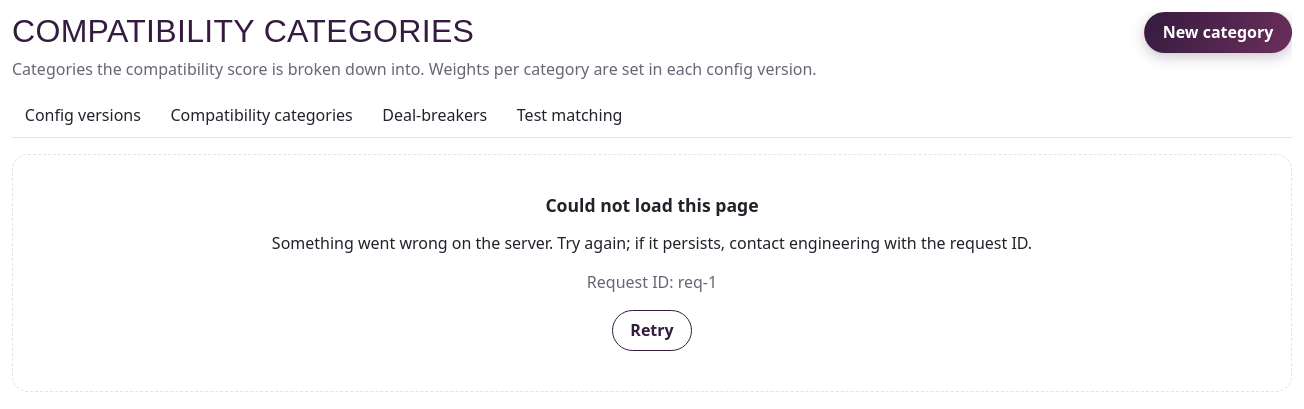
CategoriesPage › shows empty and error states
Check: the text "Something went wrong on the server. Try again; if it persists, contact engineering with the request ID." is shown, box x1=272 y1=232 x2=1032 y2=254
Click the button "Retry": (652, 331) x1=612 y1=310 x2=692 y2=351
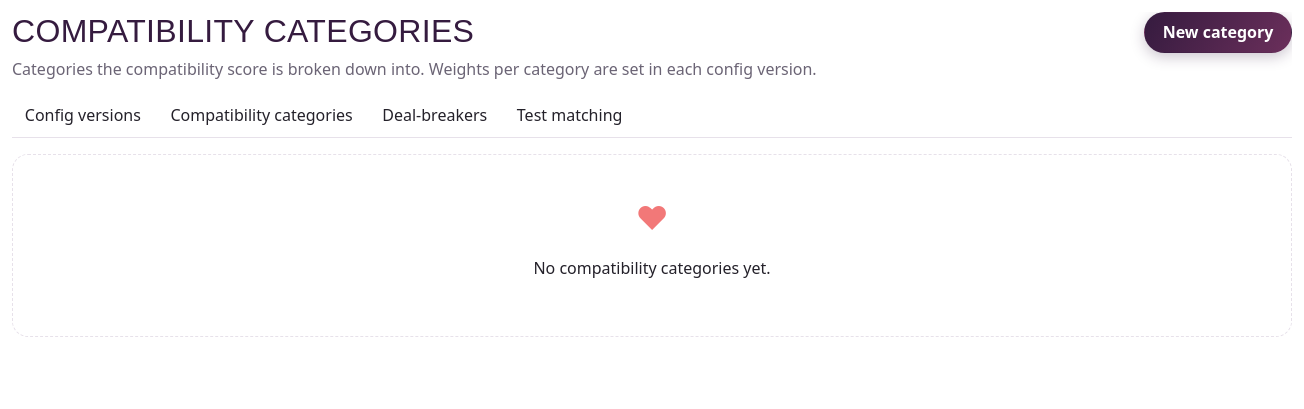
Check: the text "No compatibility categories yet." is shown, box x1=533 y1=257 x2=771 y2=279
